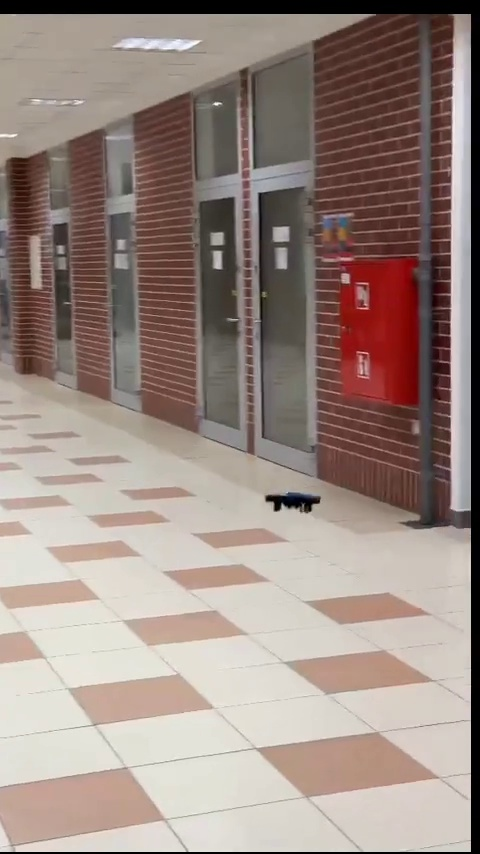drone: (260, 488, 325, 518)
